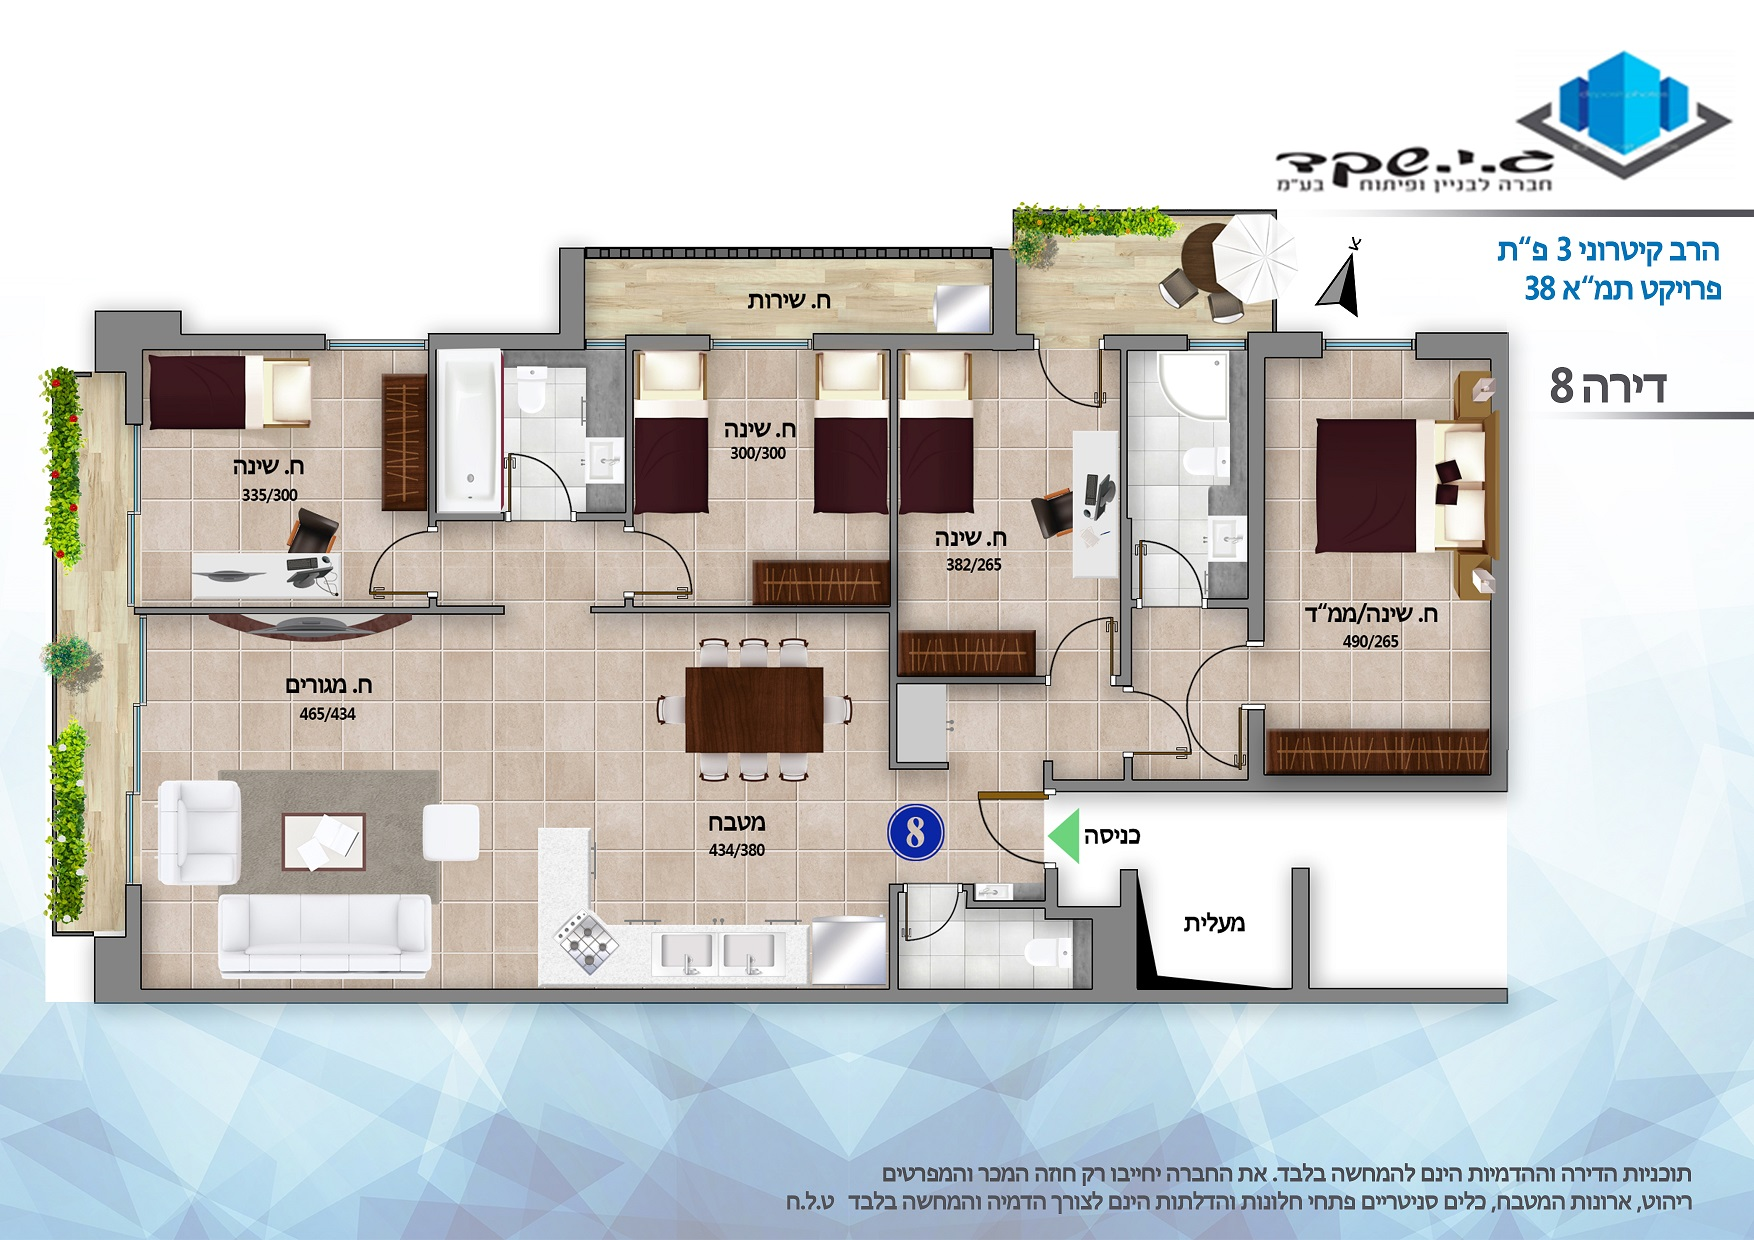door: (957, 780, 1031, 867), (503, 428, 578, 507), (1027, 357, 1121, 419), (1049, 595, 1117, 662), (650, 525, 699, 596), (1143, 684, 1190, 757), (362, 534, 412, 603), (903, 900, 961, 951)
wall: (132, 990, 1504, 1006), (1247, 340, 1261, 644), (1095, 903, 1133, 1000), (97, 313, 189, 348), (1291, 871, 1314, 1001), (557, 251, 586, 350), (89, 938, 136, 1000), (993, 246, 1019, 352), (416, 334, 586, 348)
window: (713, 335, 811, 352), (323, 340, 424, 352), (1329, 342, 1412, 356), (1184, 340, 1253, 350), (130, 517, 136, 607)
